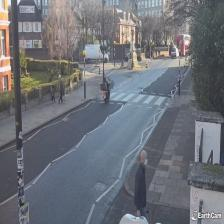person: (134, 150, 150, 224)
